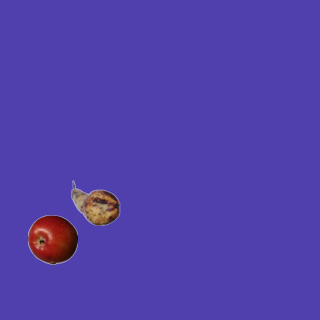Apple Braeburn: (27, 214, 77, 264)
Pear Abate: (70, 178, 120, 228)
